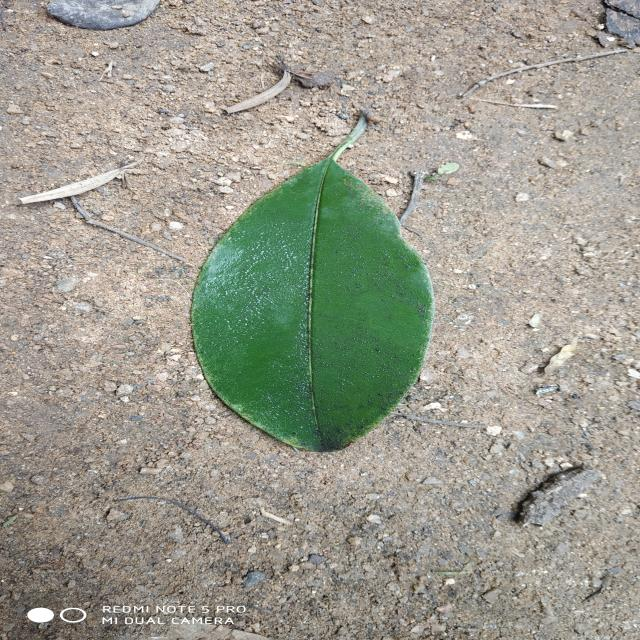fasiation: (191, 114, 433, 451)
